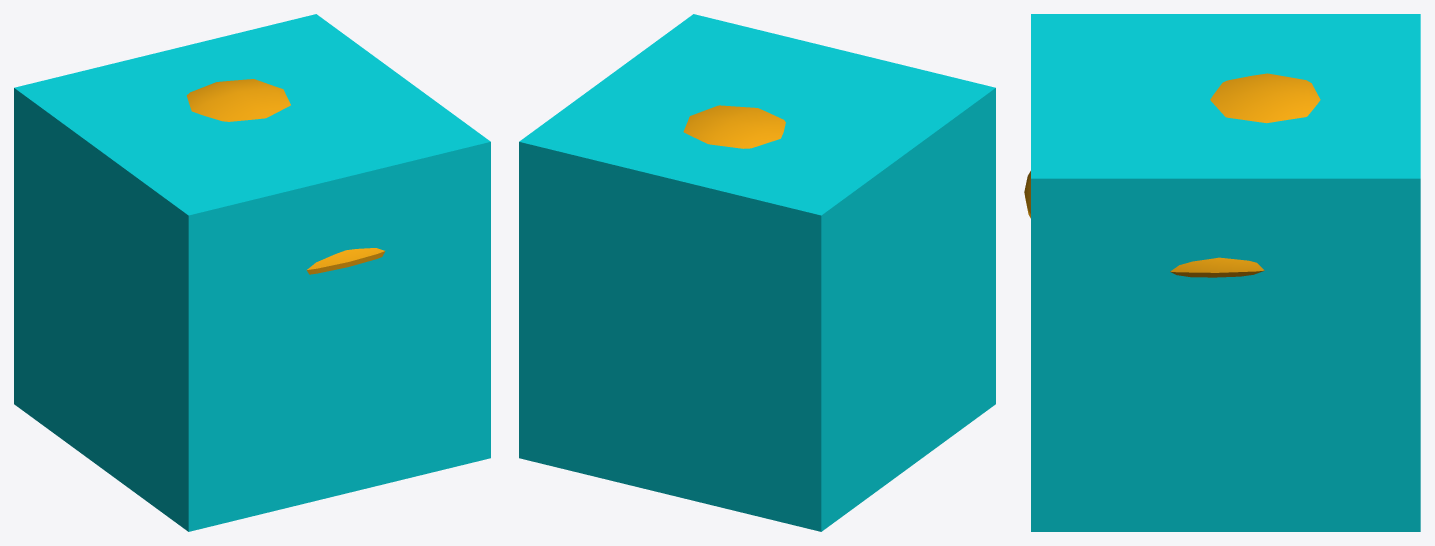
The model's file is Character-3.glb.
3 views of the same model, side by side, from view 1: azimuth 30°, elevation 25°; view 2: azimuth 150°, elevation 25°; view 3: azimuth 270°, elevation 25° (orthographic). The views are drawn at different scales.
Visible parts, largest first — view 1: Cube.001, Cube; view 2: Cube.001, Cube; view 3: Cube.001, Cube.
Part boxes in pixels (x1,y1,x2,y2): Cube.001: (14,14,490,531); Cube: (186,79,385,274); Cube.001: (519,14,995,531); Cube: (683,105,785,148); Cube.001: (1031,14,1420,531); Cube: (1024,73,1320,277).
Size of the model in its own units: 2.03 by 2.04 by 2.03.
